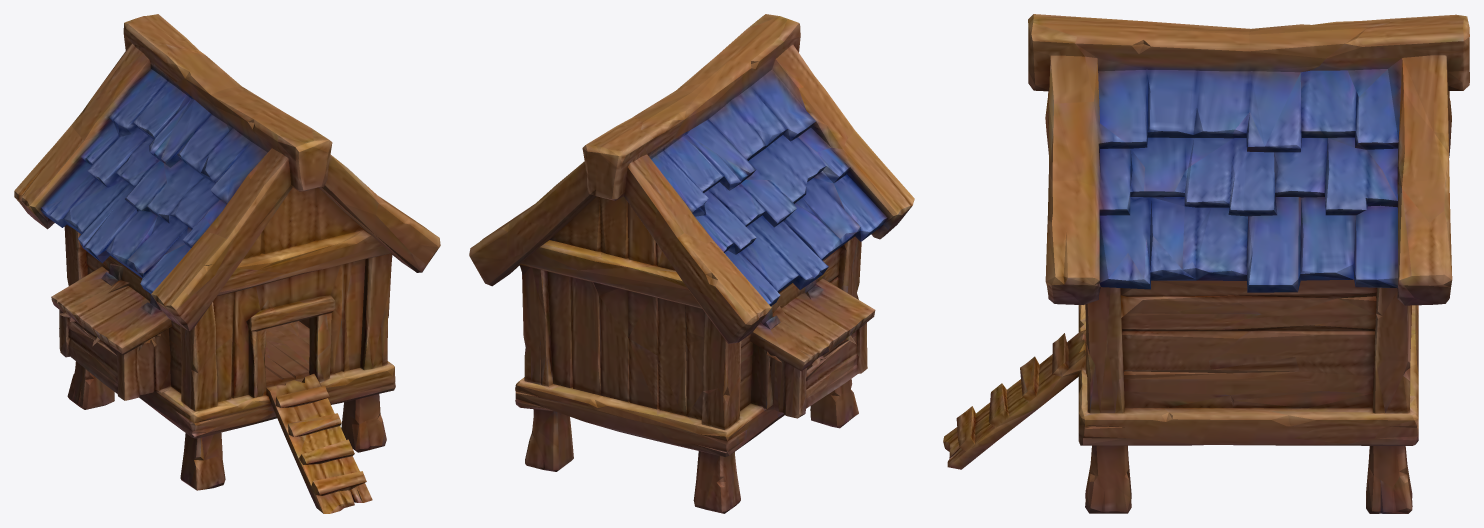
The model's file is oc_coop.glb.
3 views of the same model, side by side, from view 1: azimuth 30°, elevation 25°; view 2: azimuth 150°, elevation 25°; view 3: azimuth 270°, elevation 25° (orthographic). The views are drawn at different scales.
Parts seen in each view (by area): view 1: W_chicken_coop; view 2: W_chicken_coop; view 3: W_chicken_coop.
Boxes of the visible parts, x1,y1,x2,y2 form: W_chicken_coop: (14,14,440,513); W_chicken_coop: (469,14,914,513); W_chicken_coop: (943,14,1469,513).
Size of the model in its own units: 1.72 by 2 by 2.2.
1 material, 1 textured.
